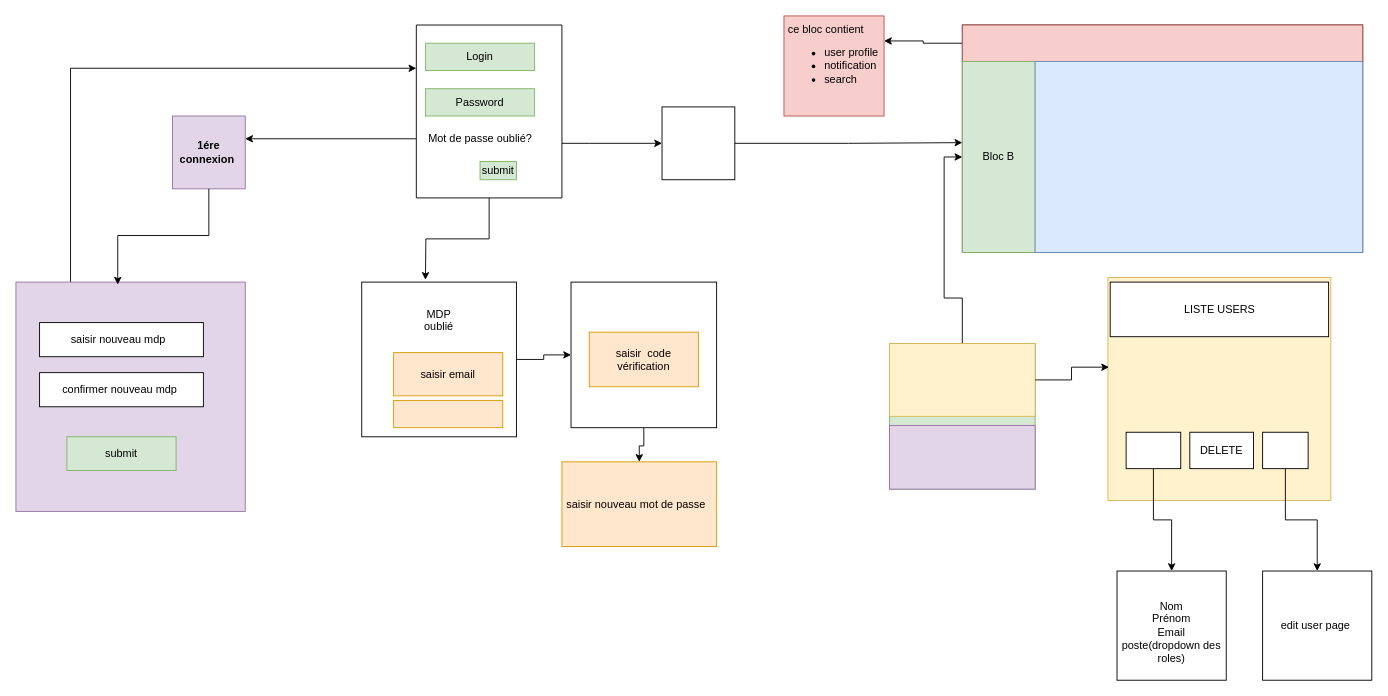
Image size: 1388x696. Some labels were removed from this diagram. The shapes that lost their labels are listed below. From the top down, each one's box as (x1, y1, x2, y2) in pixels, then its label:
(961, 24, 1363, 61): Bloc A
(661, 106, 735, 180): IHM
(1034, 61, 1363, 253): Bloc C
(889, 343, 1035, 416): users managment
(393, 399, 503, 428): confirm
(889, 425, 1035, 489): Projects managment
(1125, 431, 1181, 469): ADD
(1262, 431, 1308, 469): EDIT
